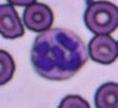N: (30, 28, 87, 80)
